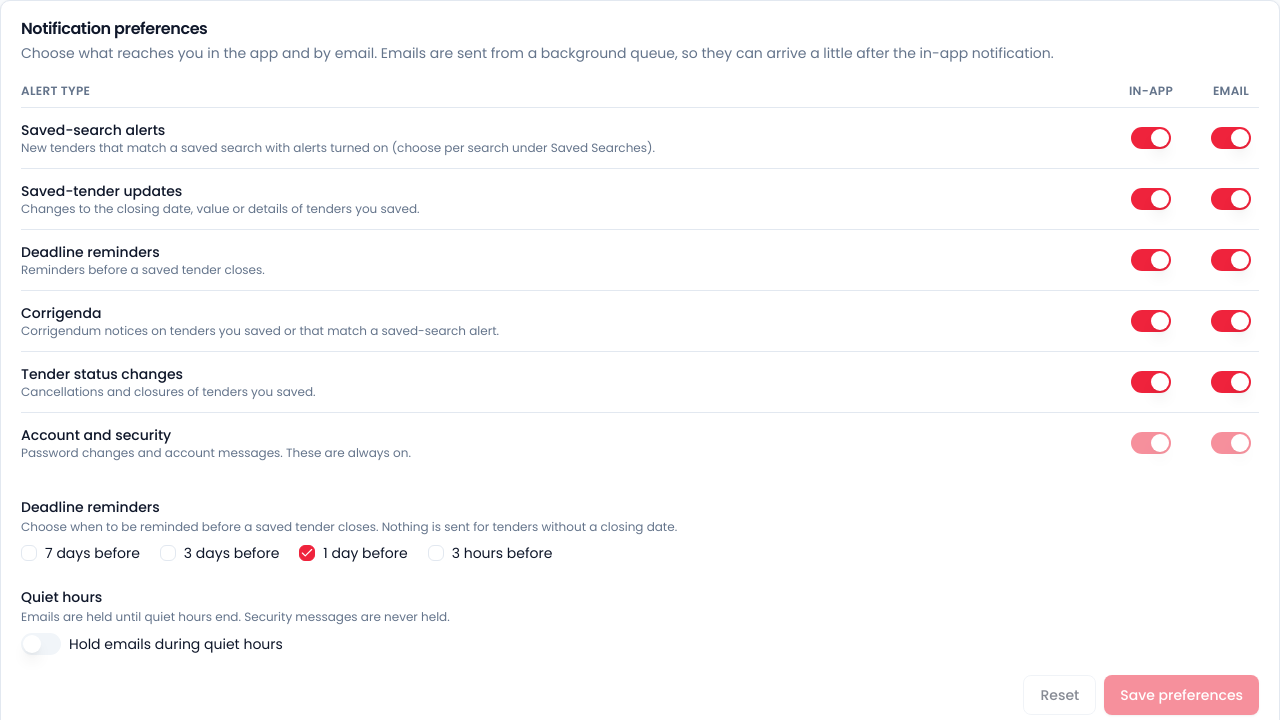
Test: NotificationPreferencesCard › saves only what changed and shows what the server returned
Step 1. Click the switch named "Corrigenda: email notifications" → (1231, 321), box [1211,310,1251,332]
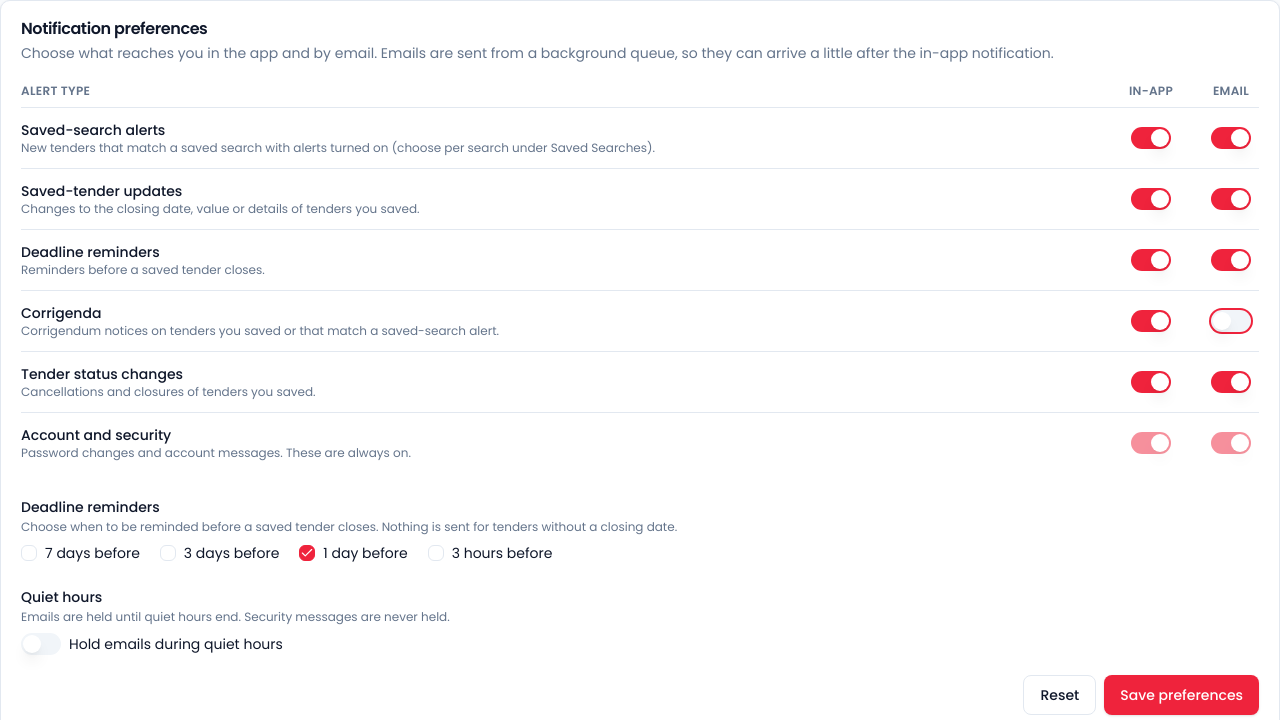
Step 2. Click the checkbox named "3 hours before" next to "3 hours before" → (436, 553), box [428,545,444,561]
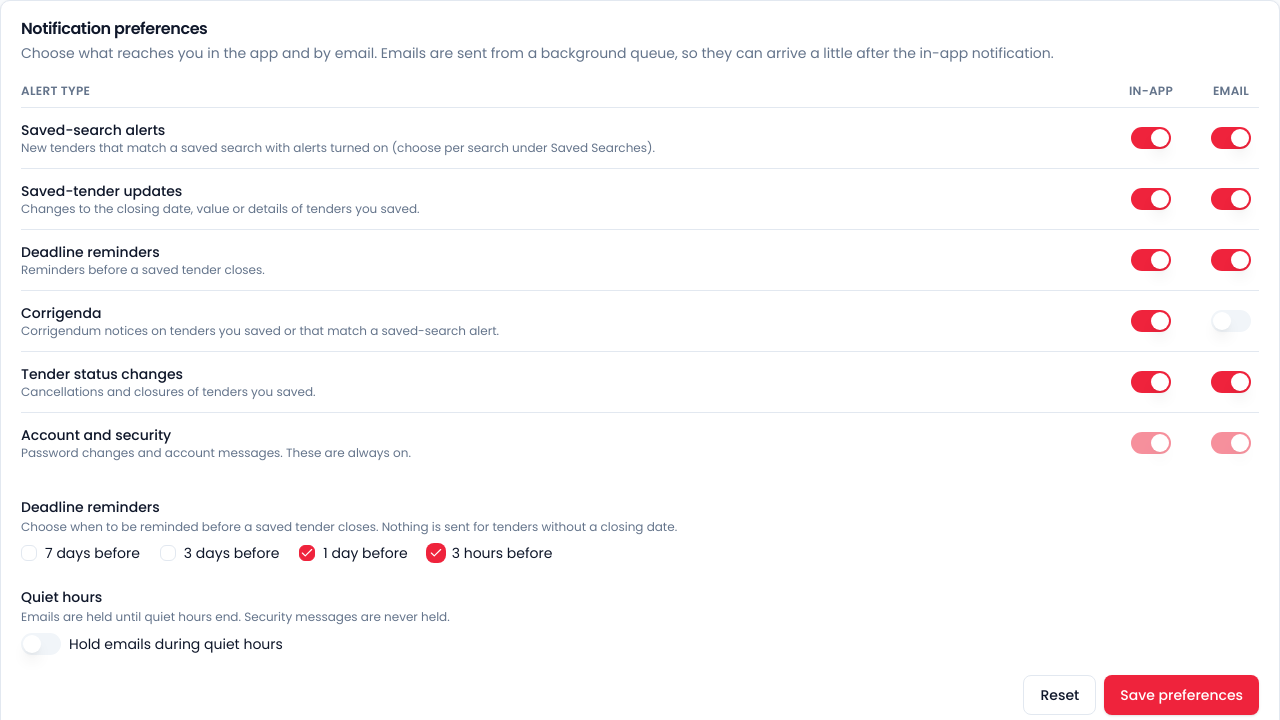
Step 3. Click the button "Save preferences" → (1182, 695), box [1104,675,1259,715]
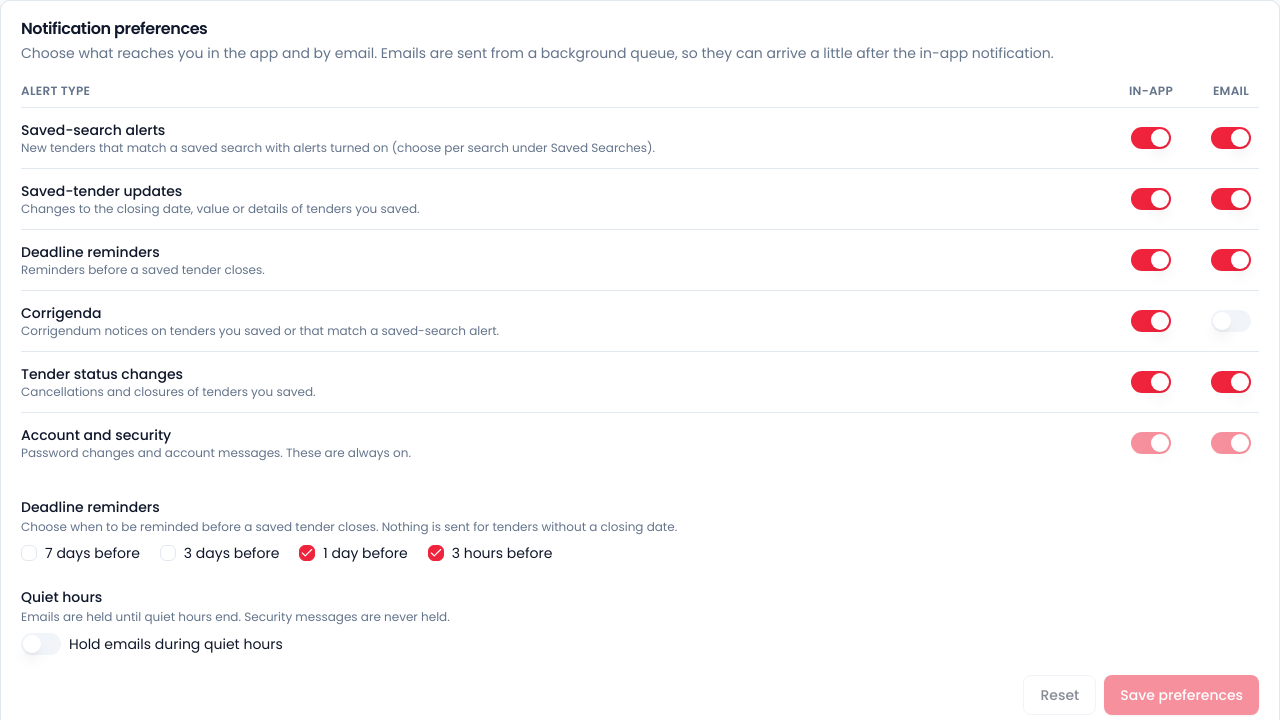
Result: the switch named "Corrigenda: email notifications" is not checked at [1211,310,1251,332]
Result: the button "Save preferences" is disabled at [1104,675,1259,715]
